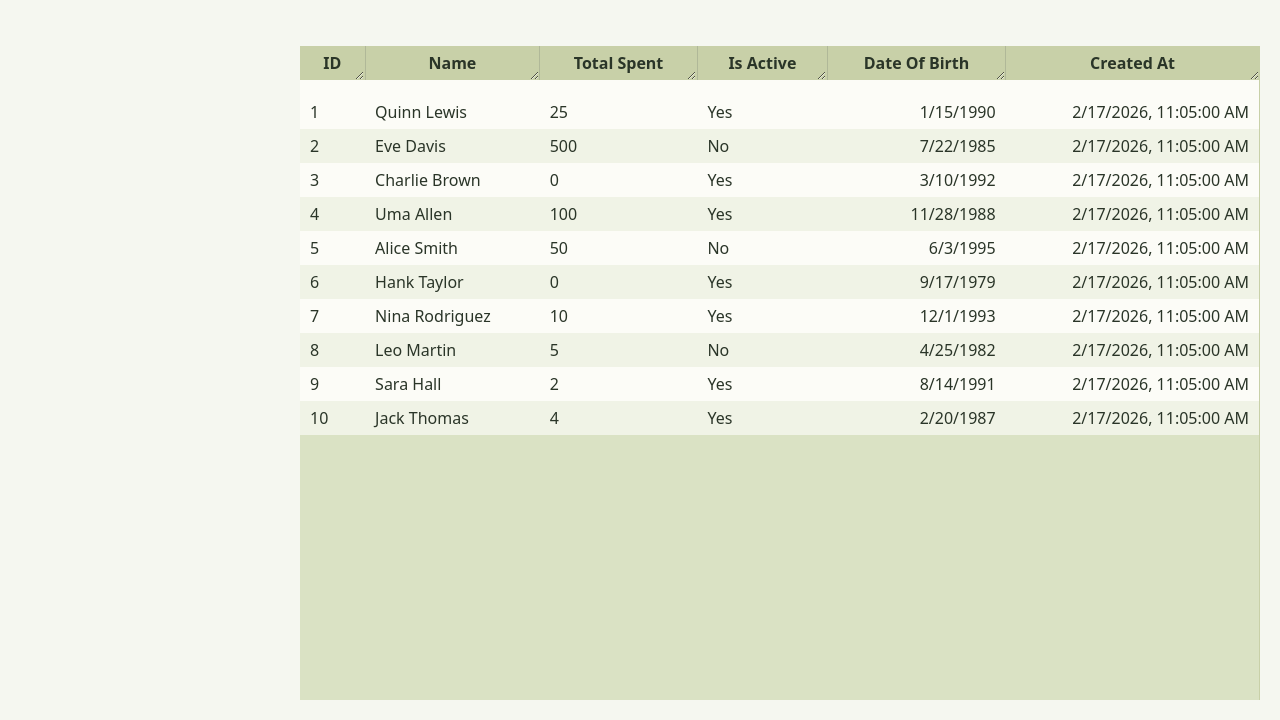
Scenario: Table › it changes sort indicator to ▲ when a different header is clicked
Click the button "Name". click: (452,63)
box: [365,46,540,80]
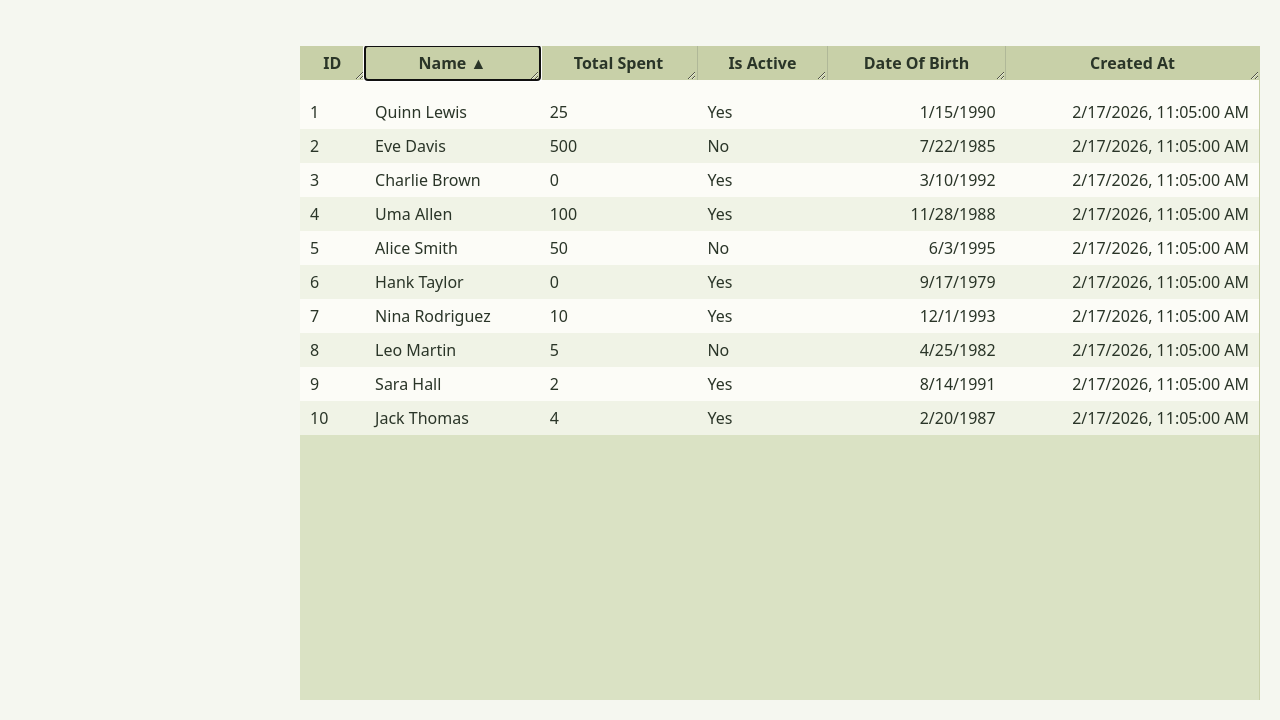
Now the button "Name ▲" is shown
Click the button "Name ▲". click: (452,63)
box: [365,46,540,80]
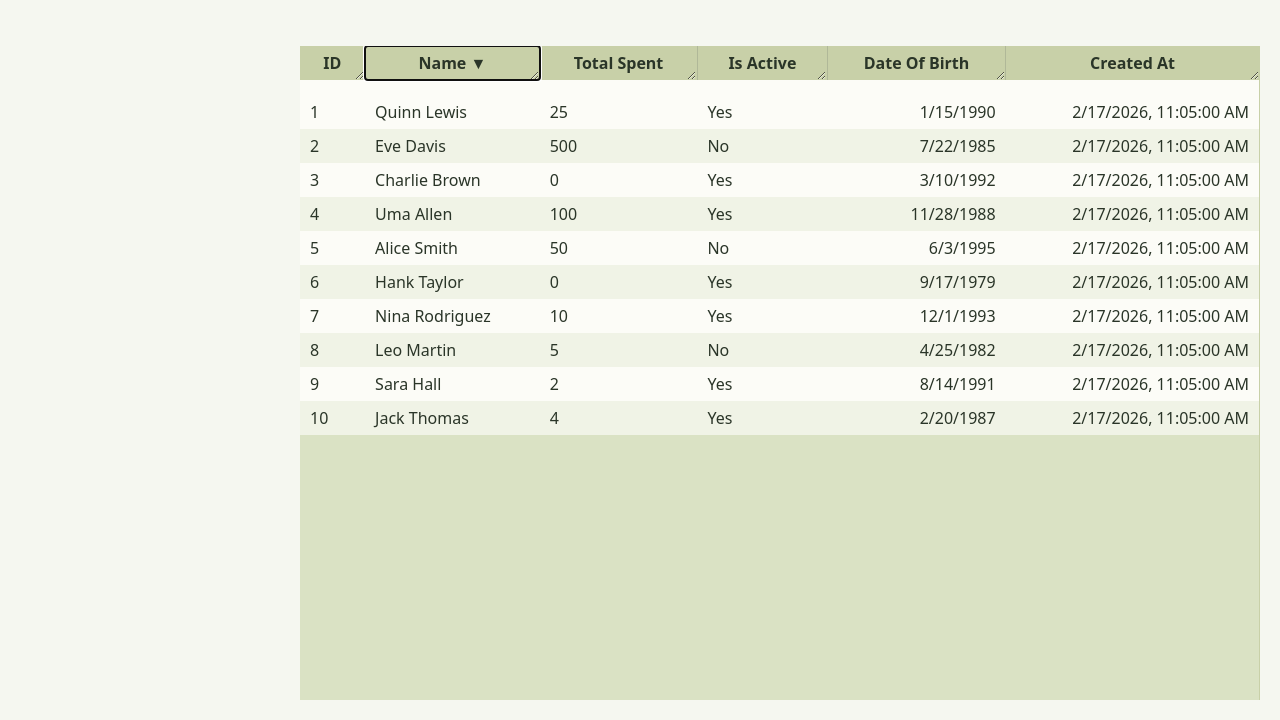
Now the button "Name ▼" is shown, box [365,46,540,80]
Click the button "Total Spent". click: (619,63)
box: [540,46,697,80]
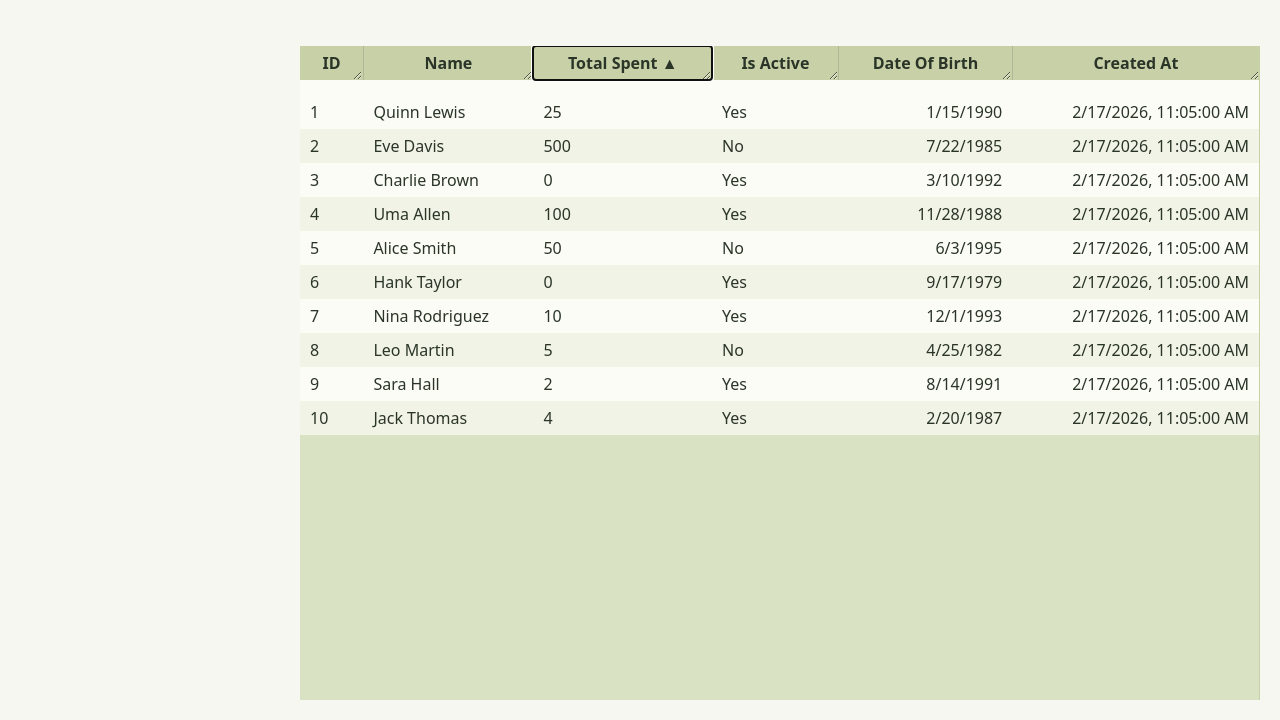
Now the button "Total Spent ▲" is shown, box [533,46,712,80]
